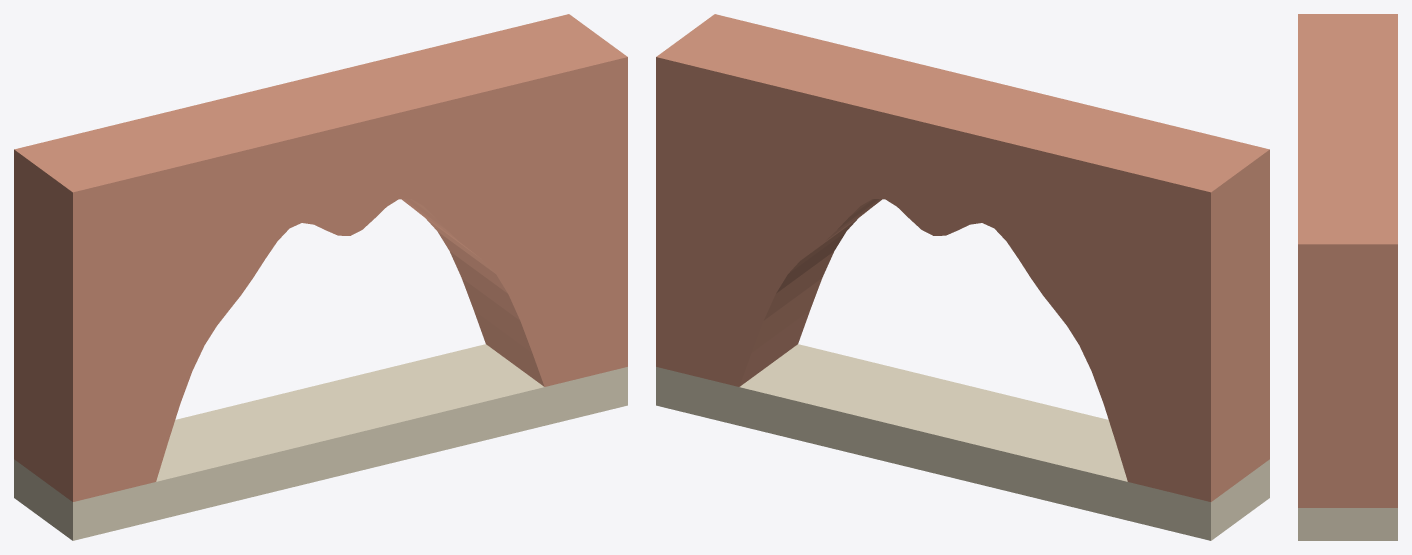
Rendered from kit_arch_span.glb.
3 renders of one model, left to right at view 1: azimuth 30°, elevation 25°; view 2: azimuth 150°, elevation 25°; view 3: azimuth 270°, elevation 25°, orthographic. The views are drawn at different scales.
Visible parts, largest first — view 1: kit_arch_span; view 2: kit_arch_span; view 3: kit_arch_span.
Boxes of the visible parts, x1,y1,x2,y2 form: kit_arch_span: [14, 14, 627, 540]; kit_arch_span: [656, 14, 1269, 540]; kit_arch_span: [1298, 14, 1397, 540].
Bounding box in the file's own units: 3 × 1.8 × 0.5501.
